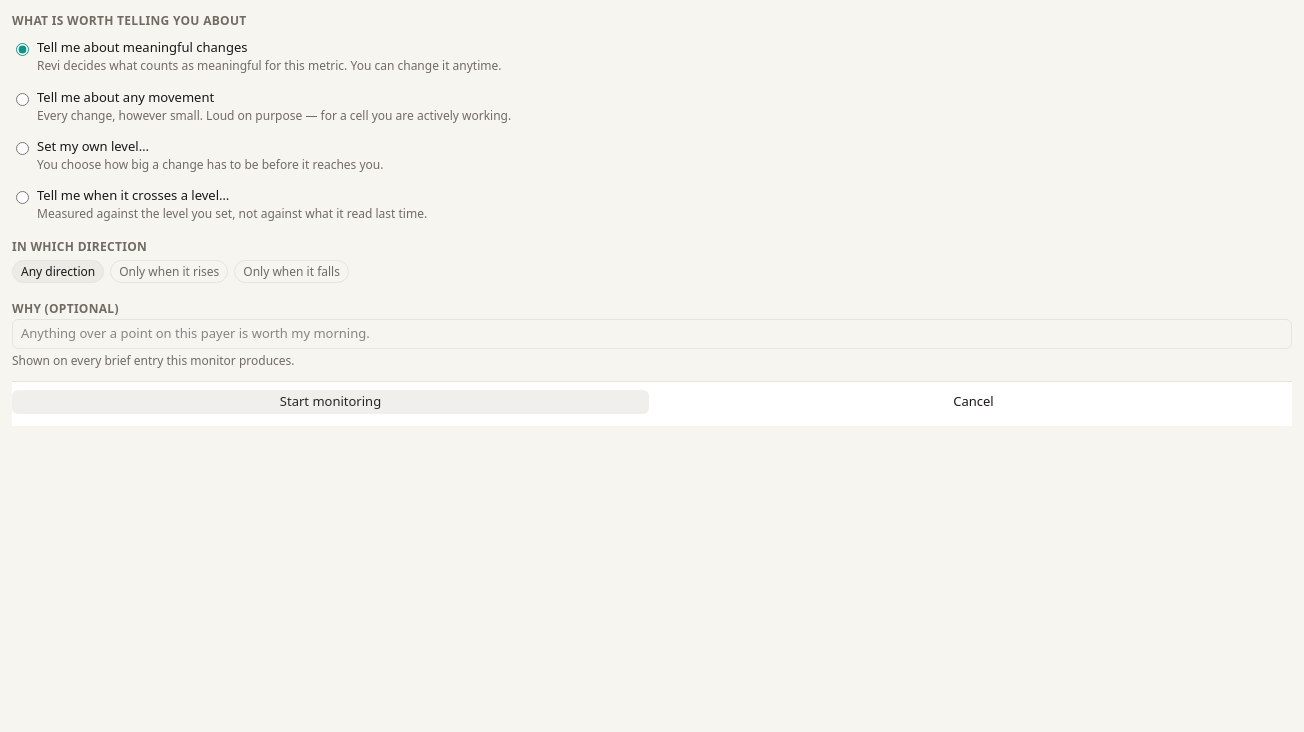
Scenario: no platform vocabulary reaches the reader › renders none of it once the number and unit controls open
Step 1. Click the radio button labelled "Set my own level" → point(22, 148), box [16,142,29,155]
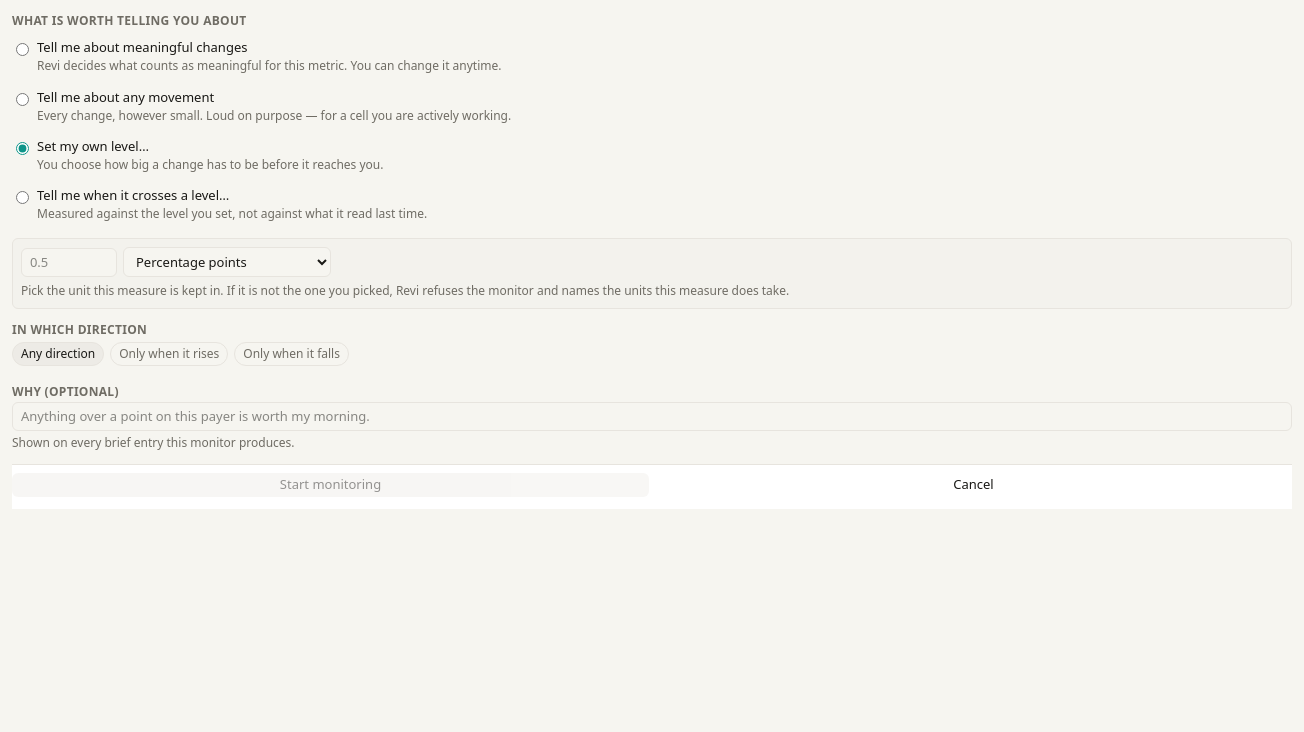
expect the field named "How far it has to move" is shown: met, box [21,248,117,277]
